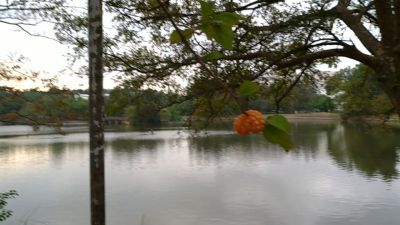eggs: (232, 109, 267, 136)
